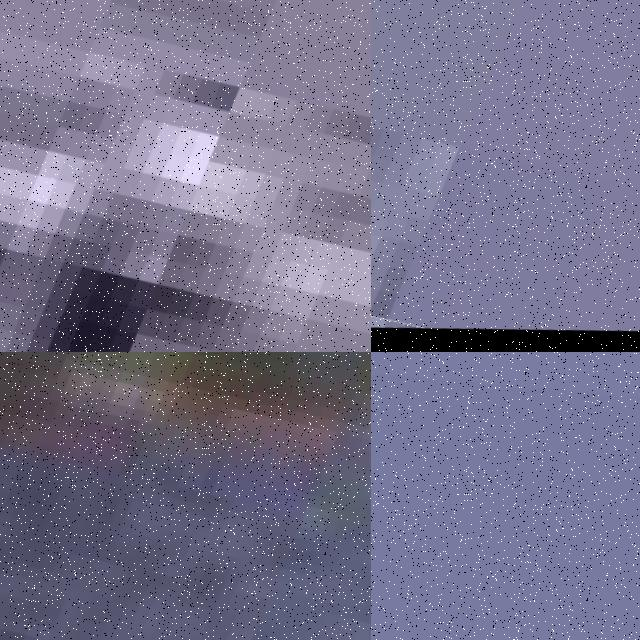0: (0, 0, 371, 352), (371, 0, 640, 352)
drone: (0, 352, 371, 640)
